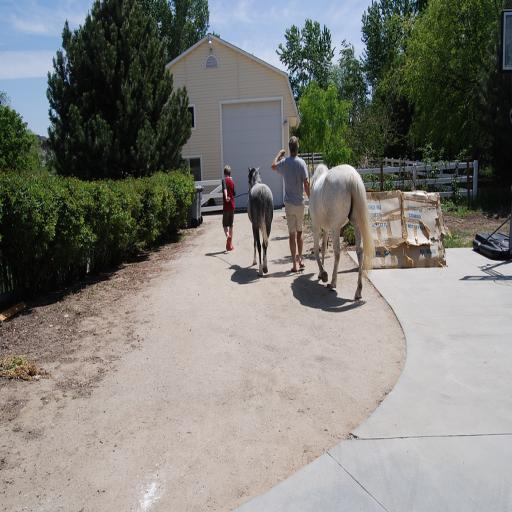horse: (308, 164, 376, 300), (246, 166, 274, 276)
